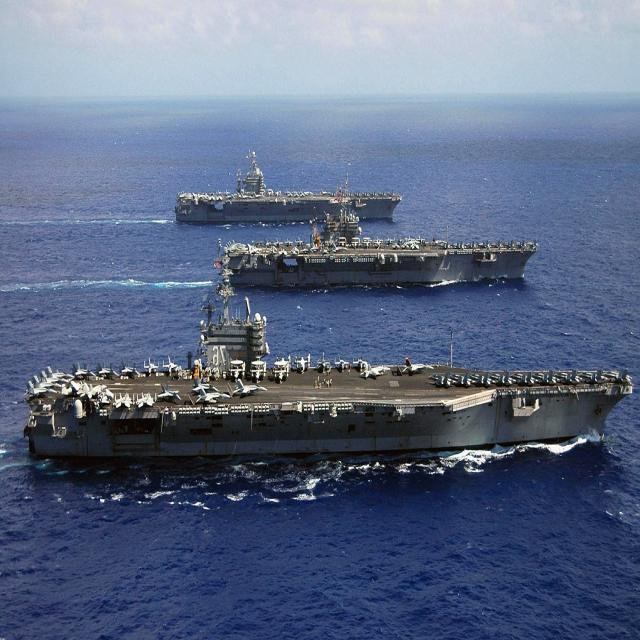navalvessels: (17, 242, 637, 482), (221, 211, 544, 277), (168, 157, 406, 223)
